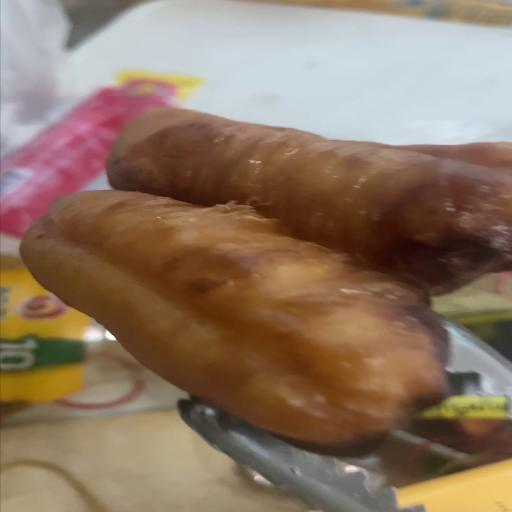street_burnt_good: (19, 107, 512, 454), (106, 108, 512, 295)
